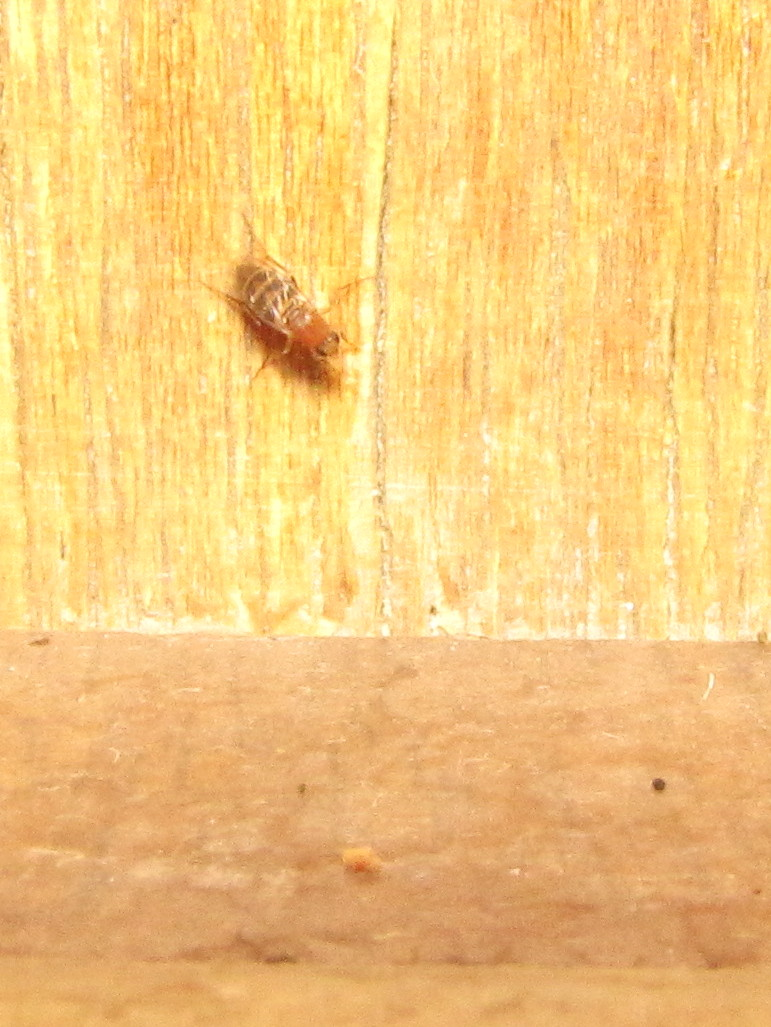phorid fly: (202, 206, 395, 404)
